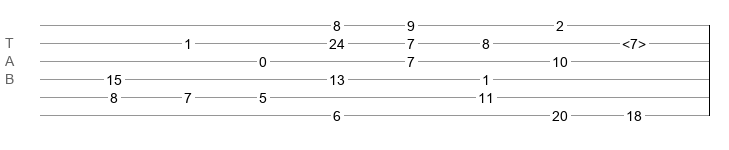0: (259, 54, 267, 64)
1: (184, 36, 192, 46), (482, 72, 490, 82)
10: (552, 54, 568, 64)
11: (478, 90, 494, 100)
13: (329, 72, 345, 82)
15: (106, 72, 122, 82)
18: (626, 108, 642, 118)
2: (556, 18, 564, 28)
20: (552, 108, 568, 118)
24: (329, 36, 345, 46)
5: (259, 90, 267, 100)
6: (333, 108, 341, 118)
7: (184, 90, 192, 100), (407, 36, 415, 46), (407, 54, 415, 64)
8: (110, 90, 118, 100), (333, 18, 341, 28), (482, 36, 490, 46)
9: (407, 18, 415, 28)
harmonic: (622, 36, 646, 46)
